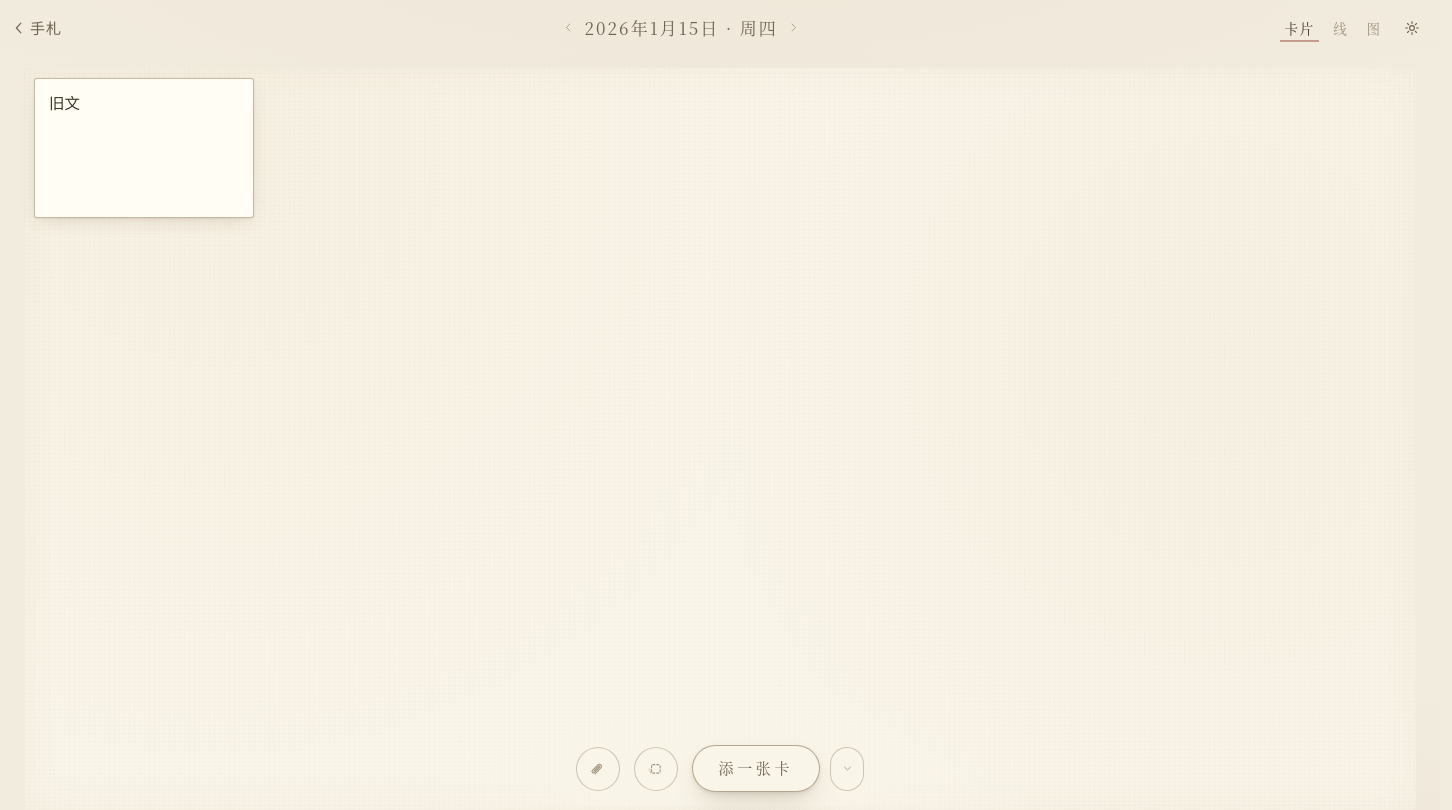
Test: 文字卡自动保存（缝=mock BanjiApp，无 IDB） › given 编辑中 when 移焦（blur）then 立即落盘并回到阅读态
The width and height of the screenshot is (1452, 810).
Double-click the text "旧文" at (64, 103), box top-left (49, 92), bottom-right (80, 114)
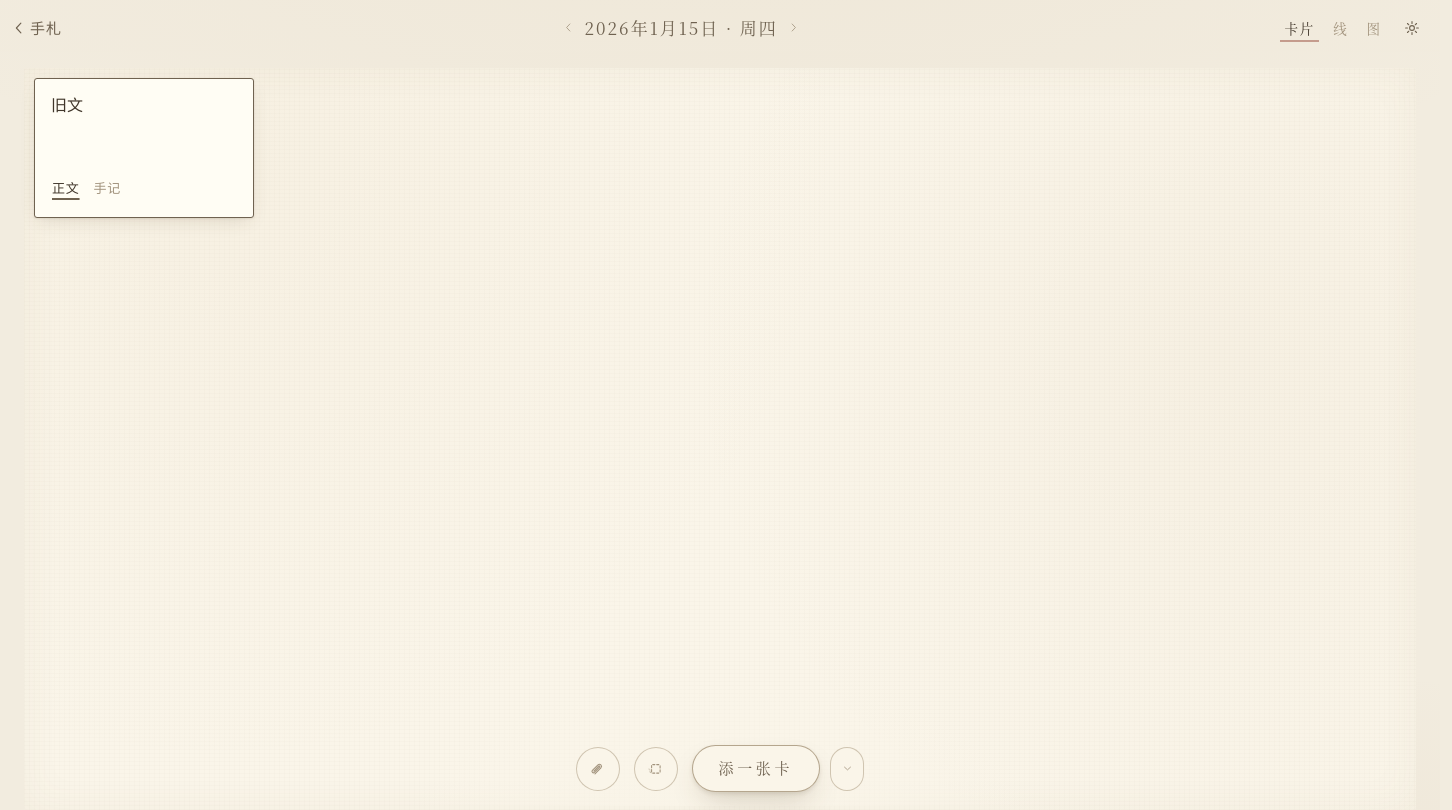
Replace the text in the text box with "快存". click: (144, 130)
box: top-left (49, 91), bottom-right (239, 169)
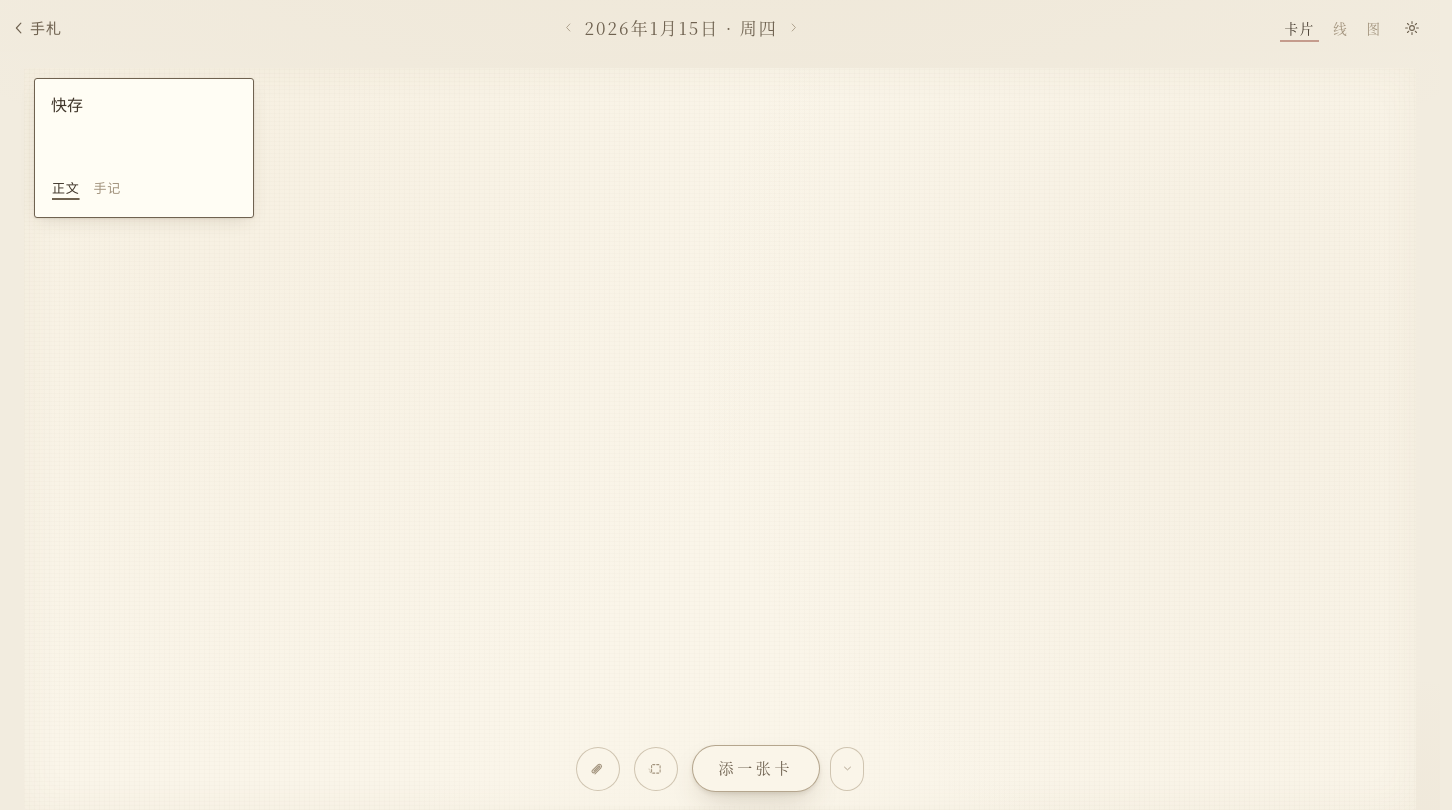
Leave the text box, box top-left (49, 91), bottom-right (239, 169)
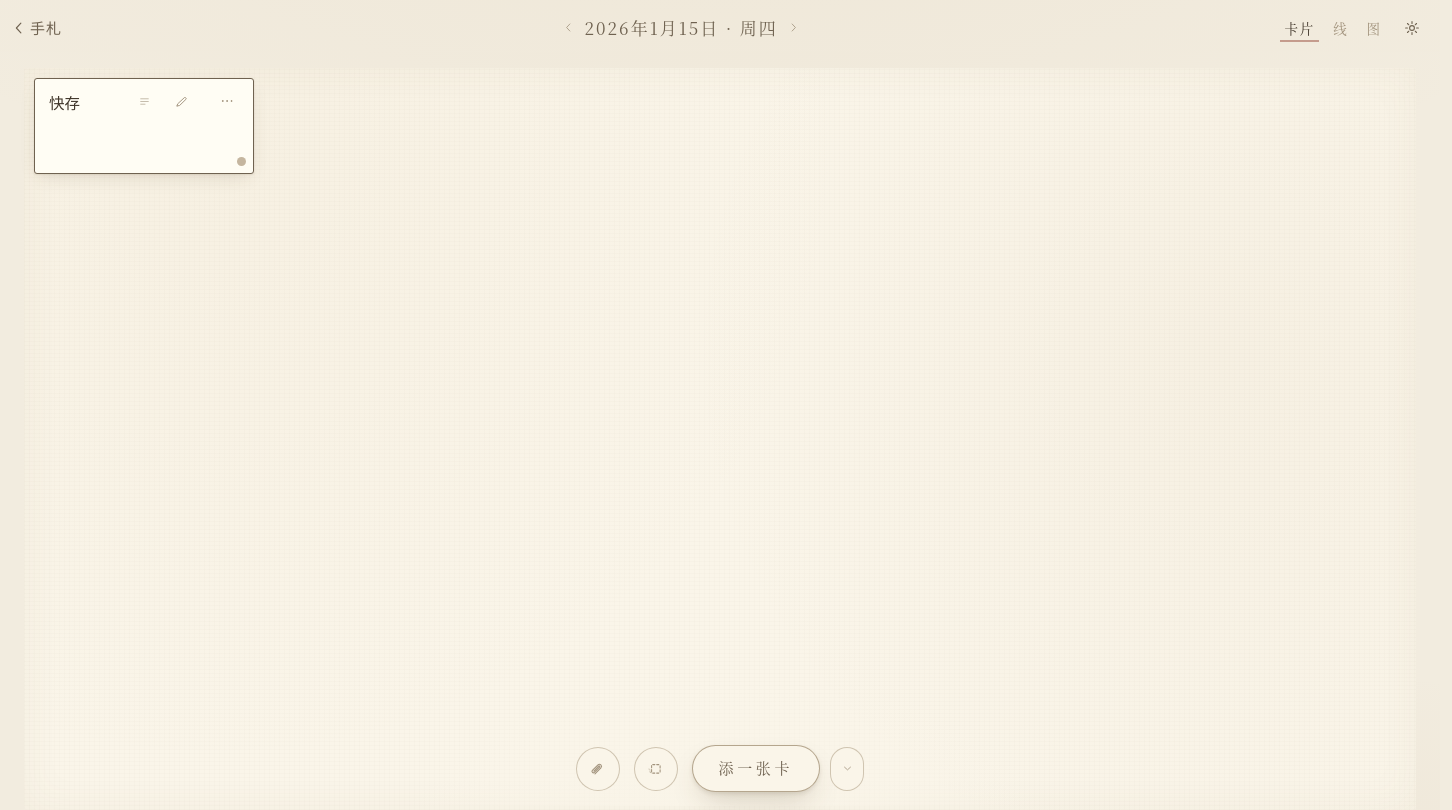
Result: the text "快存" is shown at top-left (49, 92), bottom-right (80, 114)
